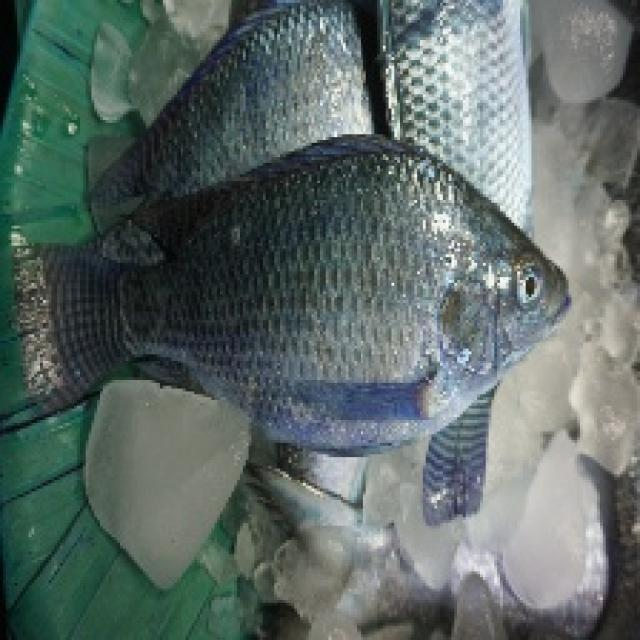Fresh: (6, 153, 593, 458)
